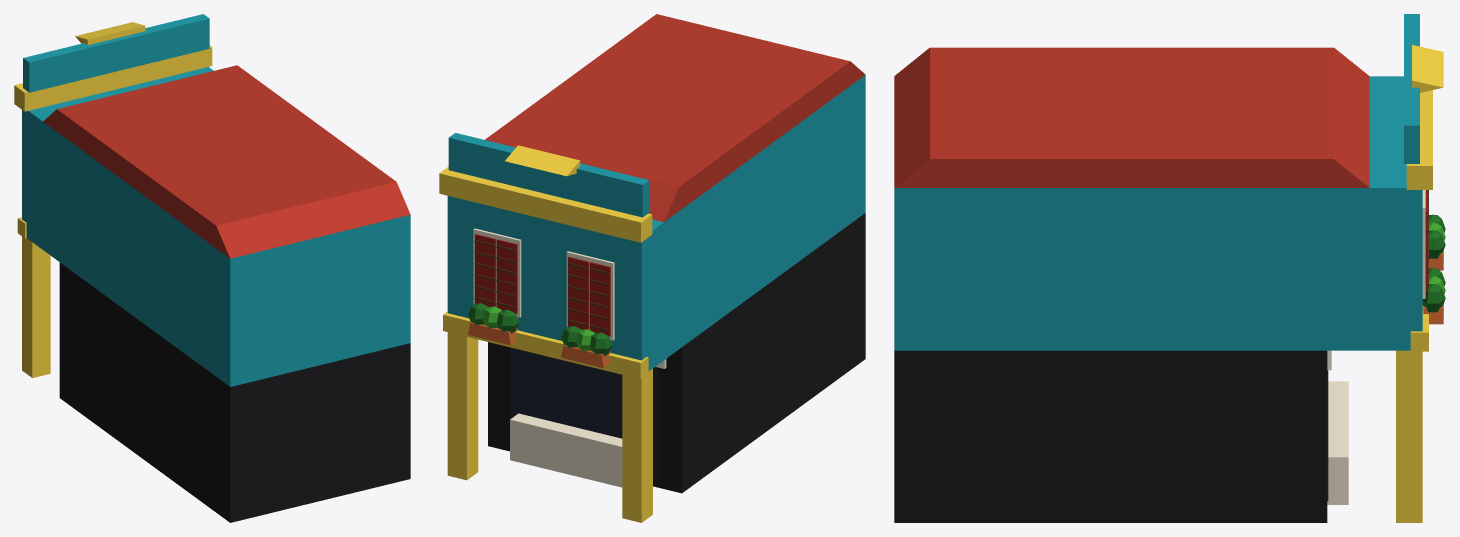
File: env_chowkit_shop_b.fbx
3 views of the same model, side by side, from view 1: azimuth 30°, elevation 25°; view 2: azimuth 150°, elevation 25°; view 3: azimuth 270°, elevation 25° (orthographic). The views are drawn at different scales.
Visible parts, largest first — view 1: env_chowkit_shop_b_geo_LOD0, COL_env_chowkit_shop_b; view 2: env_chowkit_shop_b_geo_LOD0, COL_env_chowkit_shop_b; view 3: env_chowkit_shop_b_geo_LOD0, COL_env_chowkit_shop_b.
Part boxes in pixels (left/top/right/bottom): env_chowkit_shop_b_geo_LOD0: left=14, top=14, right=410, bottom=386; COL_env_chowkit_shop_b: left=59, top=262, right=410, bottom=522; env_chowkit_shop_b_geo_LOD0: left=439, top=14, right=865, bottom=522; COL_env_chowkit_shop_b: left=488, top=213, right=865, bottom=493; env_chowkit_shop_b_geo_LOD0: left=894, top=14, right=1445, bottom=522; COL_env_chowkit_shop_b: left=894, top=350, right=1327, bottom=522.
Size of what is drawn, in the model's own units: 5.2 by 8.45 by 10.44.
